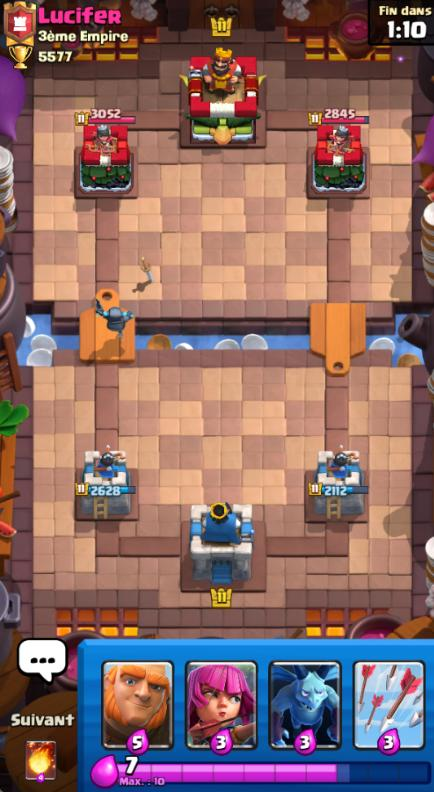mini_PEKKA: (90, 301, 136, 333)
